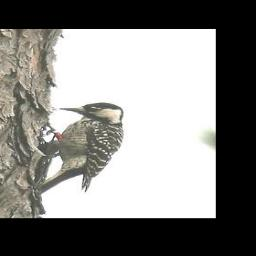Woodpecker: (34, 102, 124, 194)
